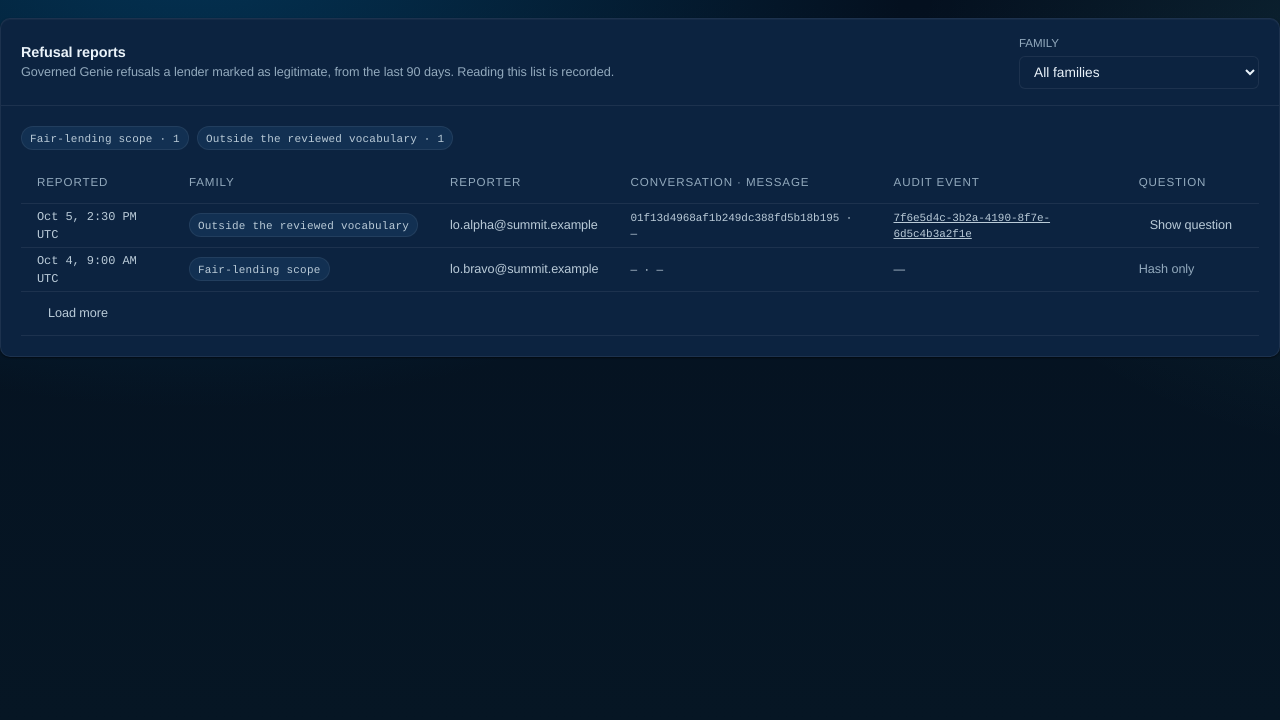
it: RefusalReportsPanel › reads the question once per click, never on hover or focus, and shows, copies and hides it
The width and height of the screenshot is (1280, 720).
Hover over the button with test id "refusal-report-show-question" at (1191, 225), box [1139,210,1243,240]
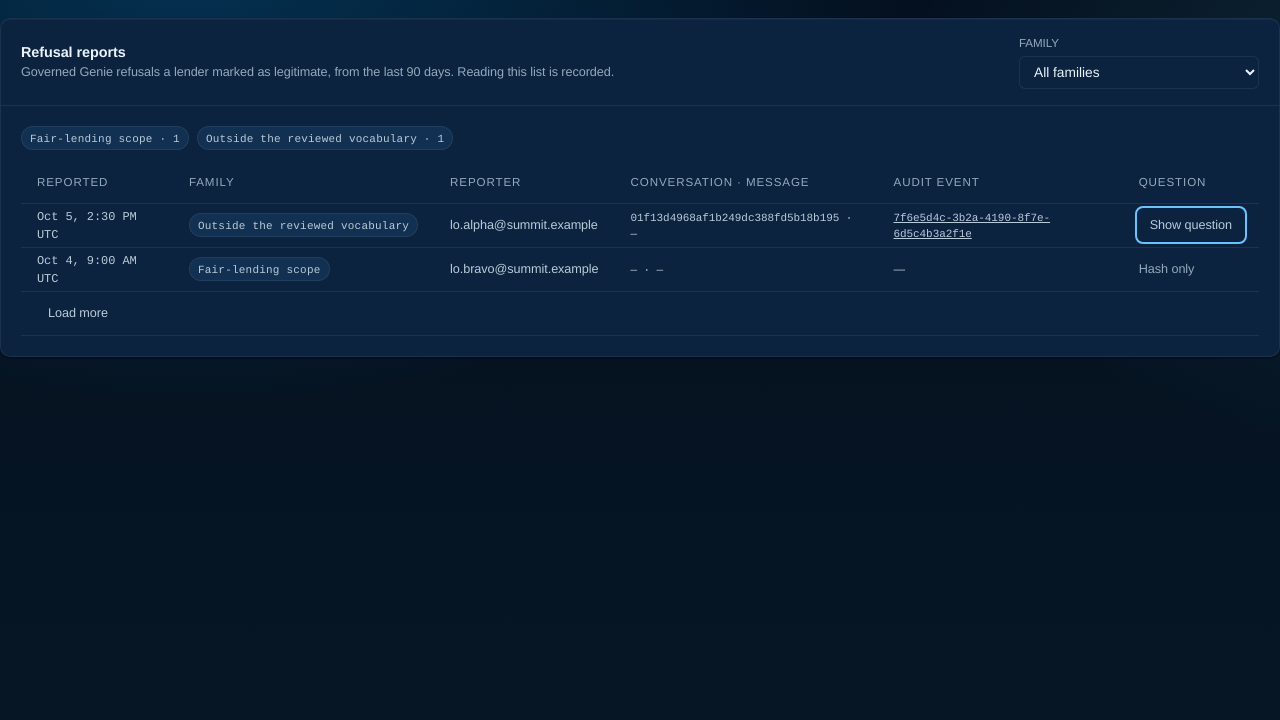
Click the button with test id "refusal-report-show-question" at (1191, 225), box [1139,210,1243,240]
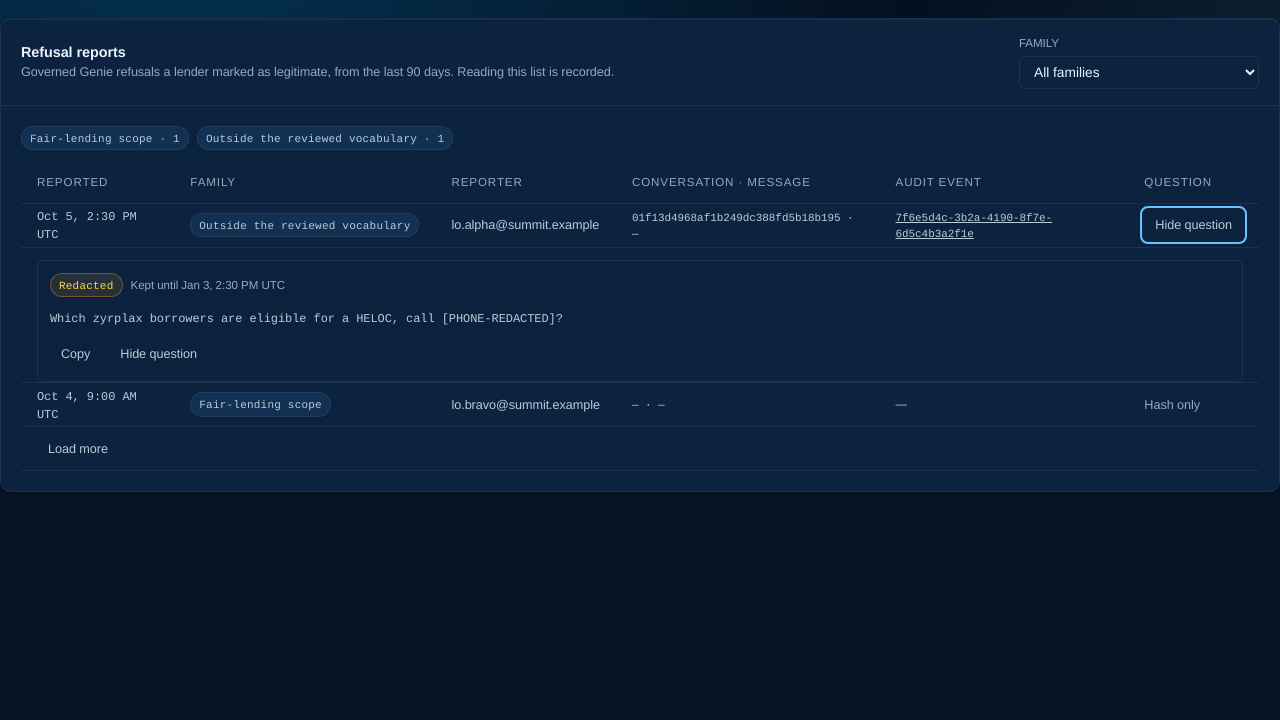
expect the element with test id "refusal-report-question" shows "[PHONE-REDACTED]": met, box [50,310,563,326]
expect the element with class "chip" reads "Redacted": met, box [59,278,114,292]
expect the element with test id "refusal-report-question" shows "Kept until": met, box [130,278,181,292]
Click the button "Copy" at (76, 354), box [50,339,101,369]
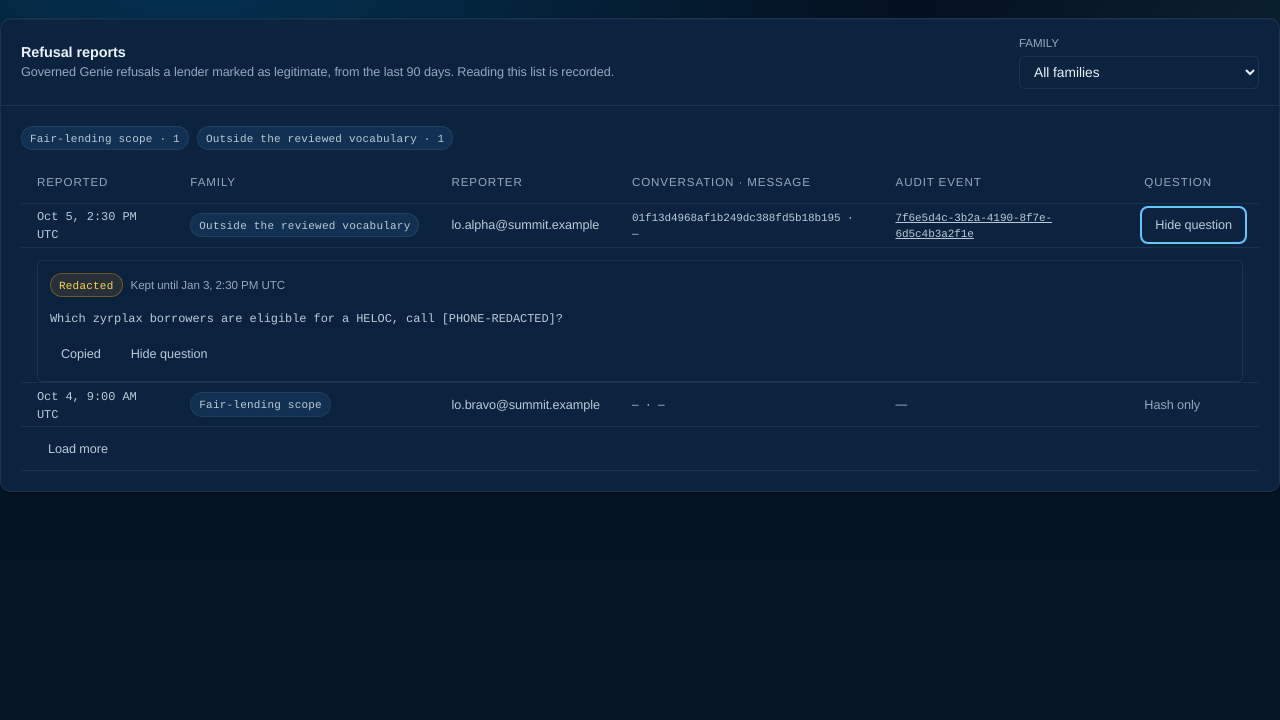
expect the element with test id "refusal-report-question" shows "Copied": met, box [50,339,112,369]
Click the button with test id "refusal-report-show-question" at (1194, 225), box [1144,210,1243,240]
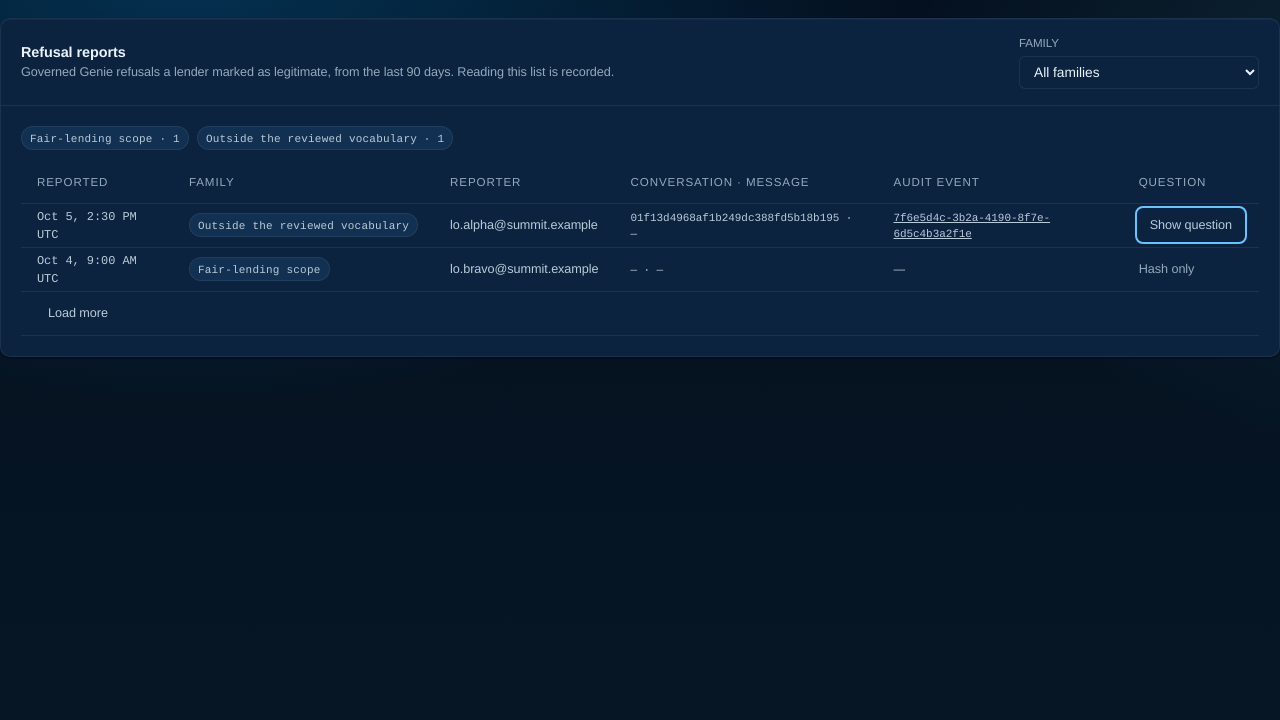
expect the element with test id "refusal-report-question" is gone: met
expect the button with test id "refusal-report-show-question" reads "Show question": met, box [1139,210,1243,240]
